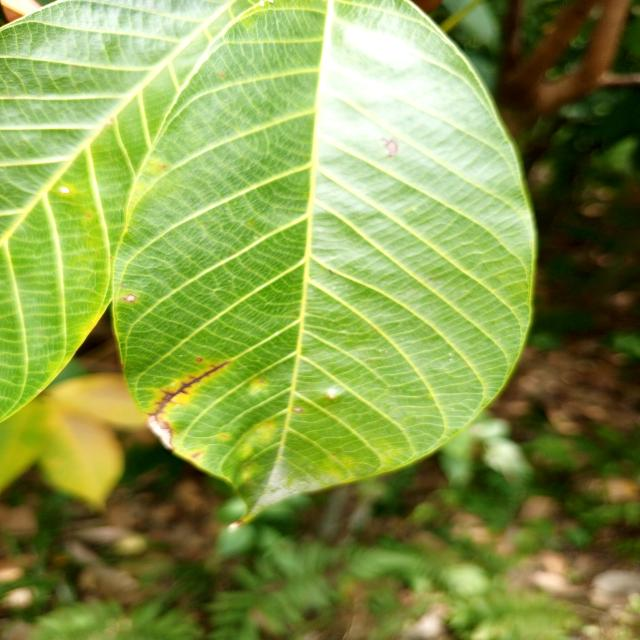Colletotrichum: (196, 358, 204, 362)
Corynespora: (149, 361, 228, 418)
Leaf-Blight: (148, 416, 172, 448)
